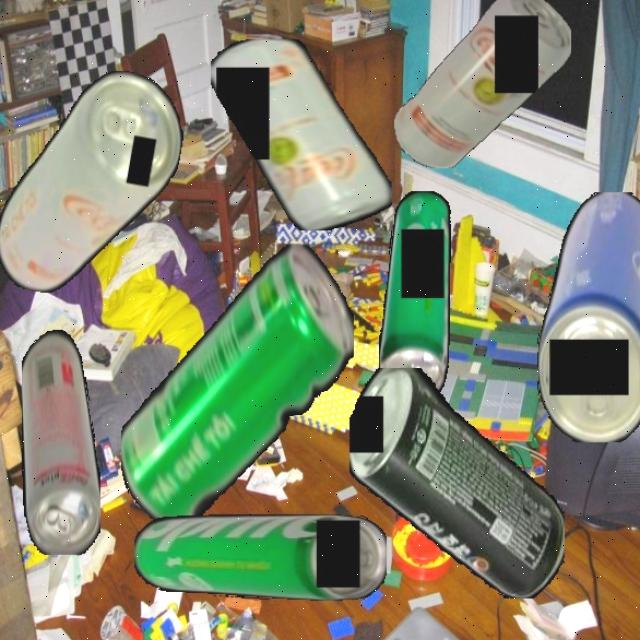debris: (120, 243, 354, 528), (348, 367, 564, 598), (0, 55, 192, 312), (211, 38, 392, 230), (393, 0, 571, 168), (536, 191, 640, 442), (133, 514, 387, 601), (21, 324, 100, 555), (378, 190, 452, 402)
